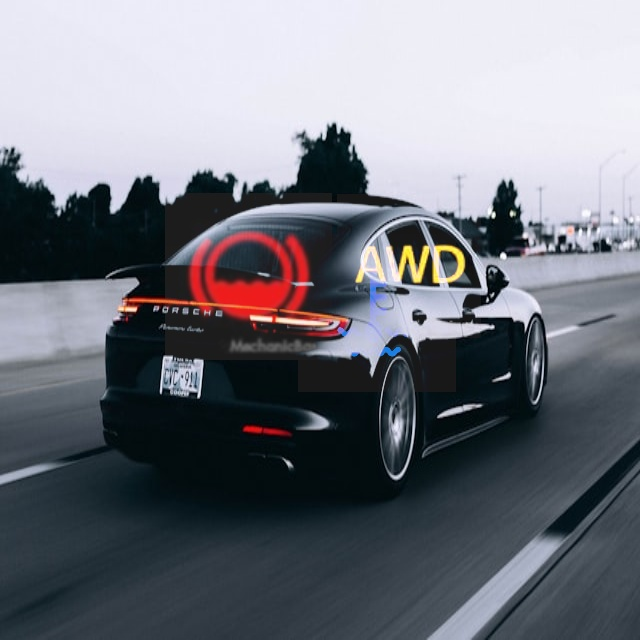symbol: (165, 193, 332, 360), (298, 234, 456, 392), (337, 194, 481, 338)
